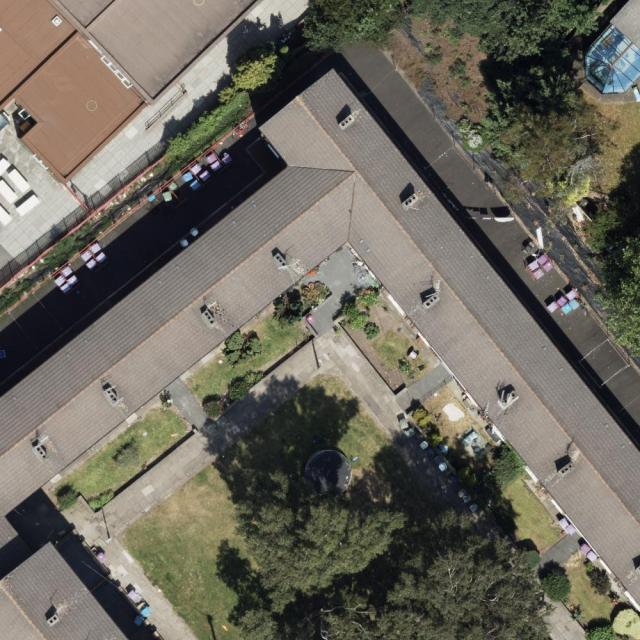roof: (0, 67, 640, 614), (0, 0, 263, 184), (0, 540, 131, 640), (586, 0, 640, 95)
skylight: (585, 25, 640, 96)
